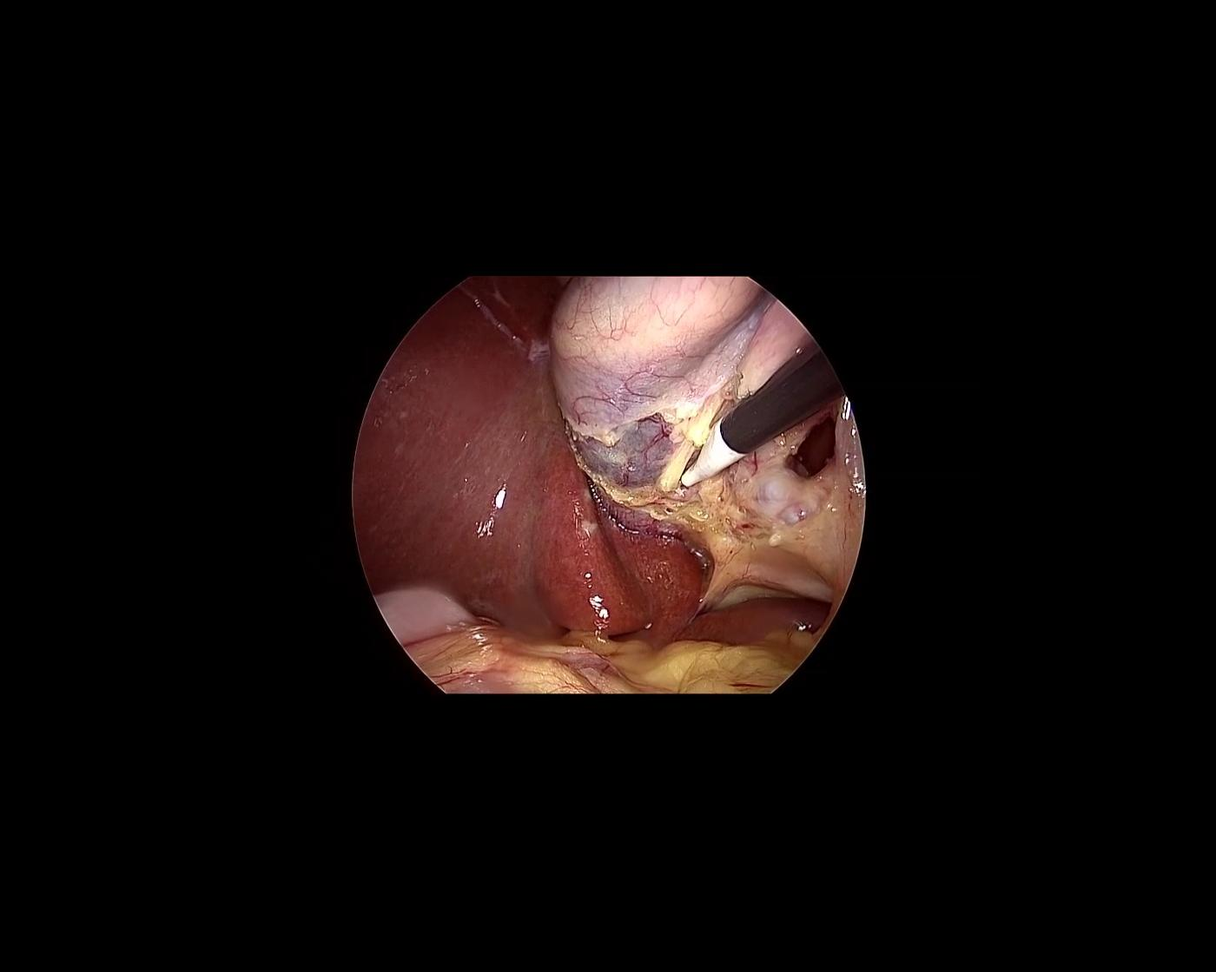Cautery: (658, 355, 846, 497)
Gallbladder: (485, 190, 815, 520)
Liver: (264, 236, 834, 828)
